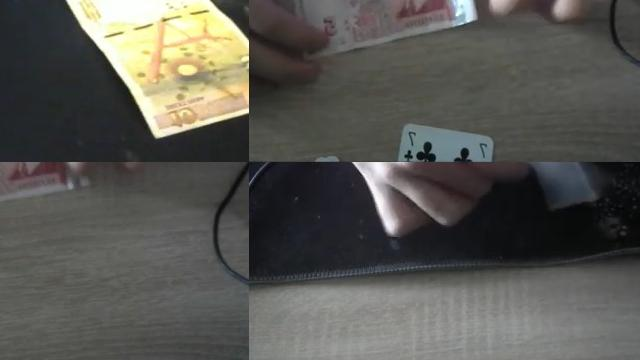10leva: (65, 0, 249, 140)
5leva: (296, 0, 476, 57)
